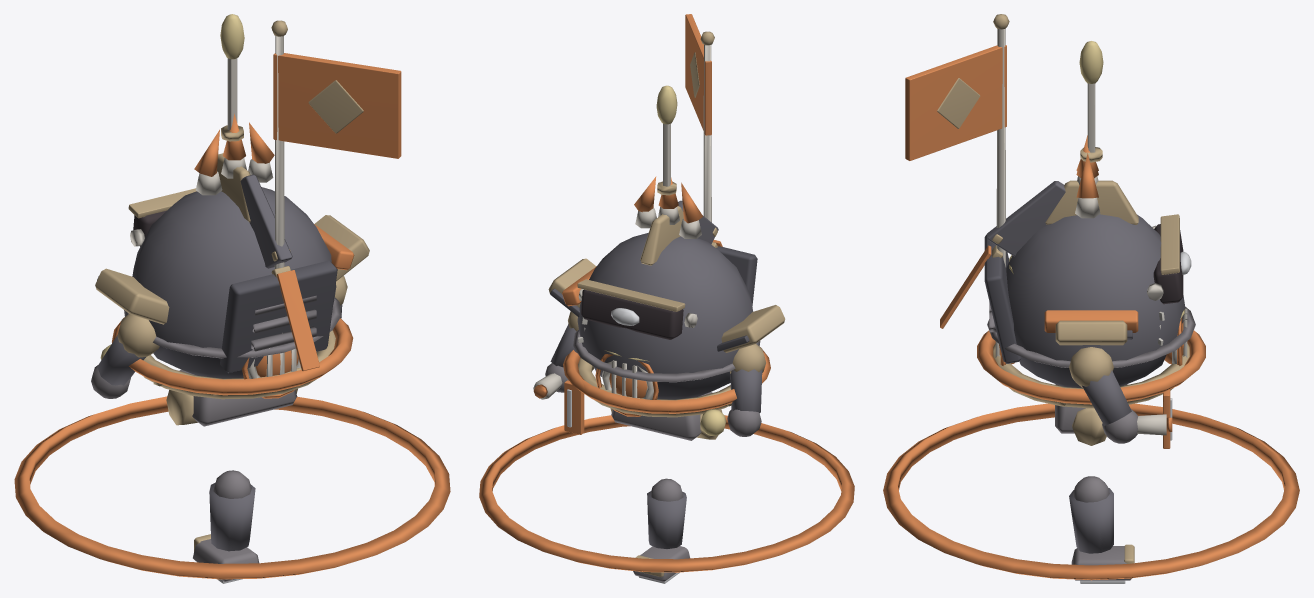
The model's file is picket_s.glb.
The picture shows the model from 3 angles, left to right: view 1: azimuth 30°, elevation 25°; view 2: azimuth 150°, elevation 25°; view 3: azimuth 270°, elevation 25°; orthographic projection. The views are drawn at different scales.
Visible parts, largest first — view 1: body, sash_own, pennant, tier3, leg_r, tier2, sash, elite, leg_l; view 2: body, sash_own, pennant, tier2, tier3, sash, leg_r, elite; view 3: body, sash_own, pennant, tier3, leg_r, sash, tier2, elite, leg_l.
Part boxes in pixels (left/top/right/bottom): body: left=91, top=174, right=347, bottom=426; sash_own: left=14, top=317, right=450, bottom=579; pennant: left=271, top=20, right=401, bottom=333; tier3: left=103, top=113, right=369, bottom=398; leg_r: left=193, top=470, right=258, bottom=583; tier2: left=95, top=153, right=369, bottom=398; sash: left=112, top=318, right=350, bottom=395; elite: left=220, top=14, right=244, bottom=141; leg_l: left=193, top=474, right=259, bottom=580; body: left=533, top=200, right=765, bottom=440; sash_own: left=479, top=350, right=854, bottom=572; pennant: left=562, top=14, right=714, bottom=306; tier2: left=549, top=206, right=785, bottom=416; tier3: left=548, top=176, right=778, bottom=416; sash: left=564, top=347, right=770, bottom=434; leg_r: left=633, top=478, right=689, bottom=583; elite: left=604, top=85, right=677, bottom=361; body: left=984, top=181, right=1195, bottom=445; sash_own: left=883, top=330, right=1299, bottom=580; pennant: left=905, top=14, right=1138, bottom=332; tier3: left=940, top=135, right=1182, bottom=365; leg_r: left=1069, top=476, right=1134, bottom=583; sash: left=977, top=330, right=1205, bottom=448; tier2: left=992, top=181, right=1182, bottom=360; elite: left=1009, top=41, right=1184, bottom=319; leg_l: left=1069, top=476, right=1110, bottom=562.
Bounding box in the file's own units: 1.11 × 1.65 × 1.11.
